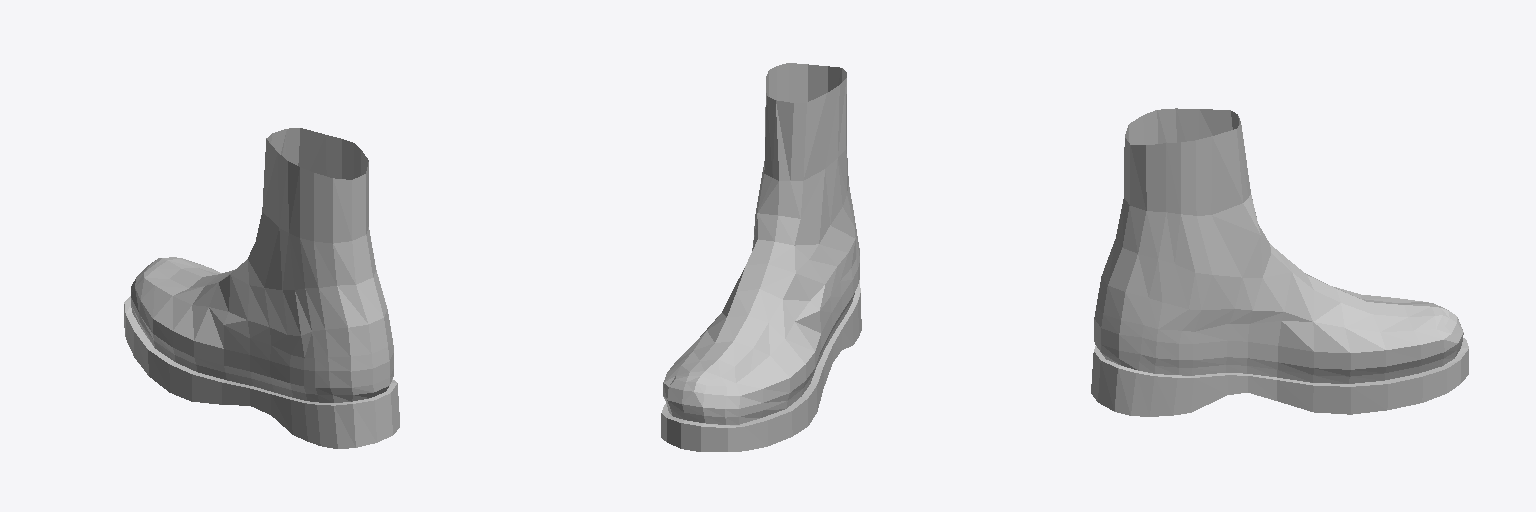
File: boots_2.obj
3 views of the same model, side by side, from view 1: azimuth 30°, elevation 25°; view 2: azimuth 150°, elevation 25°; view 3: azimuth 270°, elevation 25° (orthographic).
Visible parts, largest first — view 1: Plane; view 2: Plane; view 3: Plane.
Boxes of the visible parts, x1,y1,x2,y2 form: Plane: [124, 128, 399, 448]; Plane: [661, 63, 861, 451]; Plane: [1091, 108, 1468, 416].
Size of the model in its own units: 3.37 by 6.77 by 8.36.